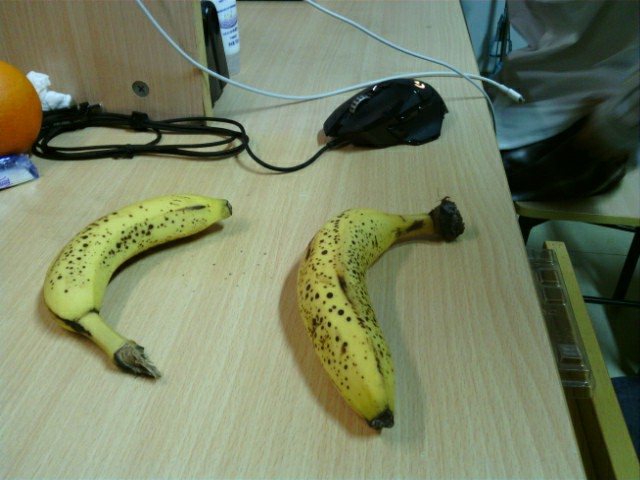normal_banana: (297, 197, 461, 429), (44, 194, 233, 380)
